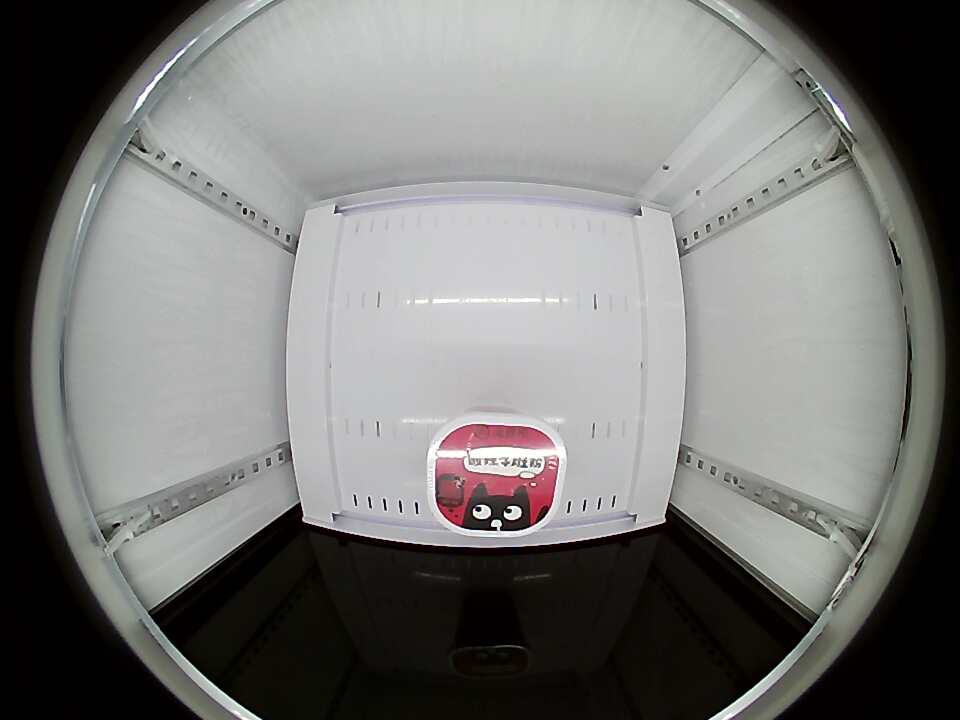niudufen: (428, 411, 565, 536)
